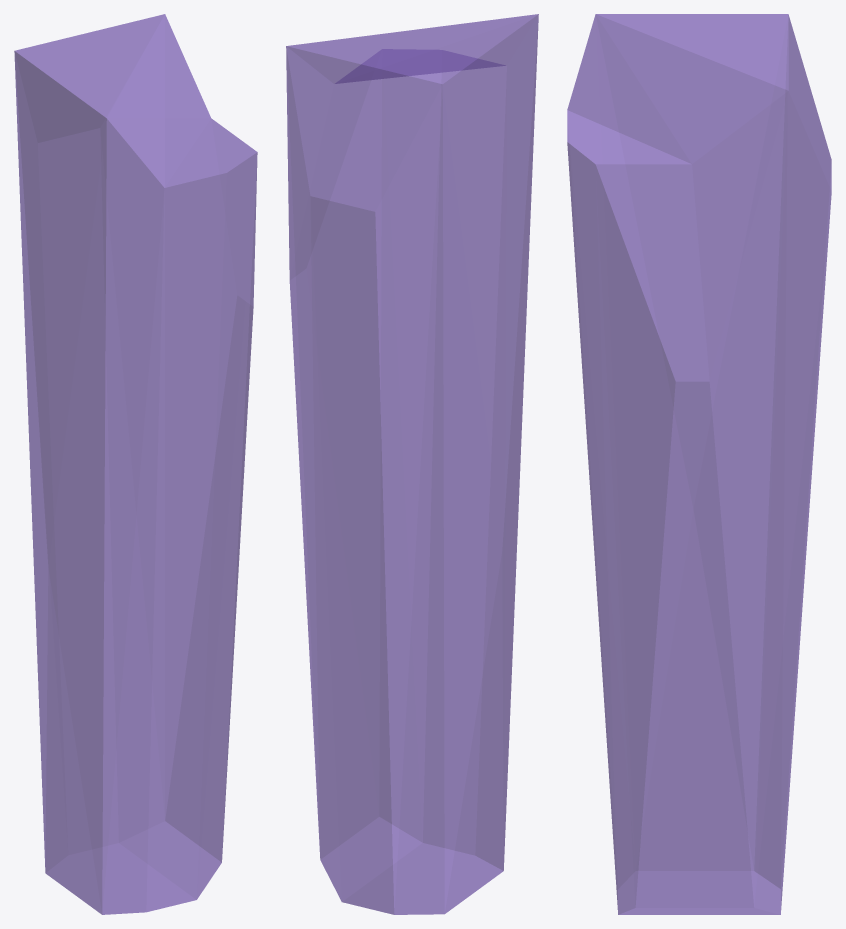
File: Crystal_New_01.fbx
3 views of the same model, side by side, from view 1: azimuth 30°, elevation 25°; view 2: azimuth 150°, elevation 25°; view 3: azimuth 270°, elevation 25° (orthographic). The views are drawn at different scales.
Parts seen in each view (by area): view 1: Model; view 2: Model; view 3: Model.
Boxes of the visible parts, x1,y1,x2,y2 form: Model: (14, 14, 257, 914); Model: (286, 14, 538, 914); Model: (567, 14, 831, 914).
Size of the model in its own units: 65.6 by 259 by 73.19.
